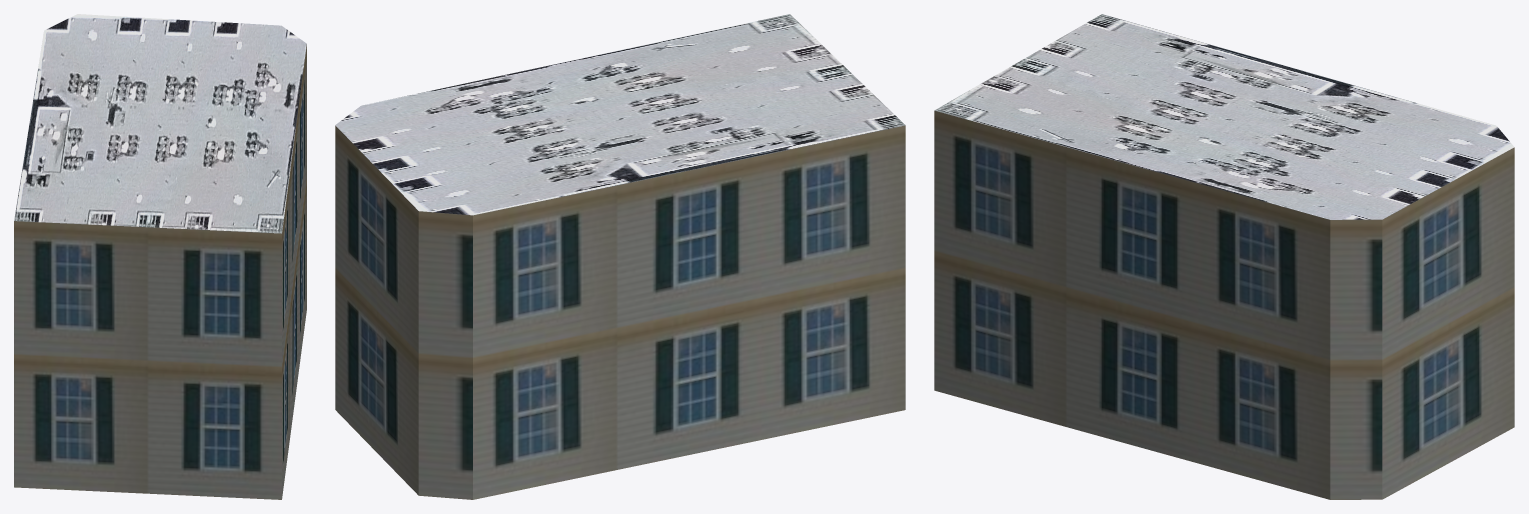
File: ResTex__3006.fbx
3 views of the same model, side by side, from view 1: azimuth 30°, elevation 25°; view 2: azimuth 150°, elevation 25°; view 3: azimuth 270°, elevation 25° (orthographic). The views are drawn at different scales.
Parts seen in each view (by area): view 1: CityEngineMaterial_7_m, CityEngineMaterial_m; view 2: CityEngineMaterial_7_m, CityEngineMaterial_m; view 3: CityEngineMaterial_7_m, CityEngineMaterial_m.
Boxes of the visible parts, box(x1,y1,x2,y2) form: CityEngineMaterial_7_m: box(14, 44, 306, 499); CityEngineMaterial_m: box(14, 14, 306, 233); CityEngineMaterial_7_m: box(335, 125, 905, 499); CityEngineMaterial_m: box(335, 14, 905, 215); CityEngineMaterial_7_m: box(934, 110, 1514, 499); CityEngineMaterial_m: box(934, 14, 1514, 219).
Bounding box in the file's own units: 9.46 × 6 × 11.27.
2 materials, 2 textured.
